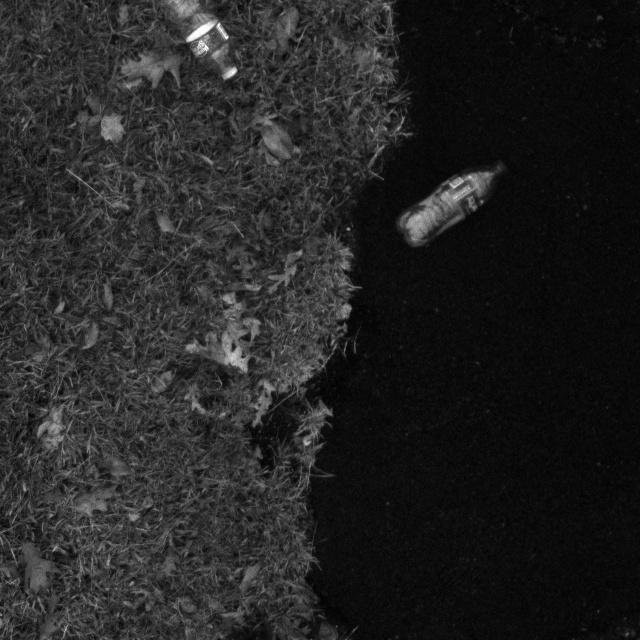bottle: (393, 158, 510, 249), (153, 0, 253, 87)
